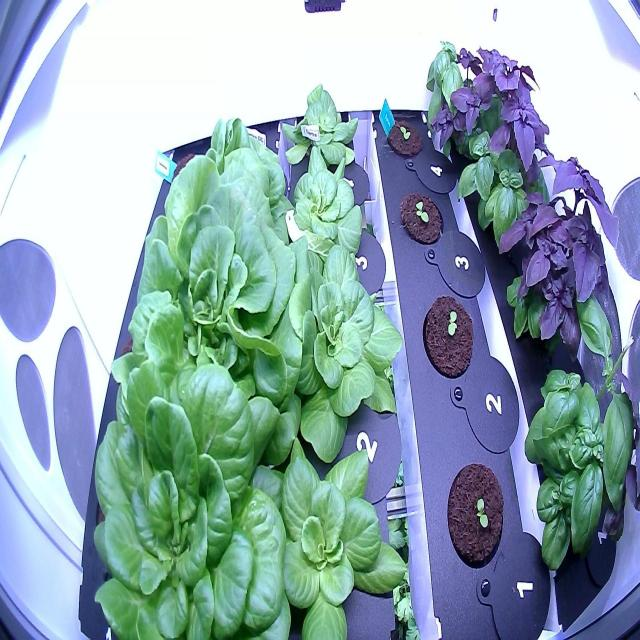Ready: (89, 348, 298, 640), (125, 148, 307, 384)
germination: (444, 454, 508, 576), (417, 278, 478, 386), (396, 176, 447, 252), (381, 109, 428, 167)
young: (246, 436, 414, 640), (264, 240, 411, 468), (162, 109, 294, 238), (280, 142, 369, 271), (280, 74, 362, 184)
